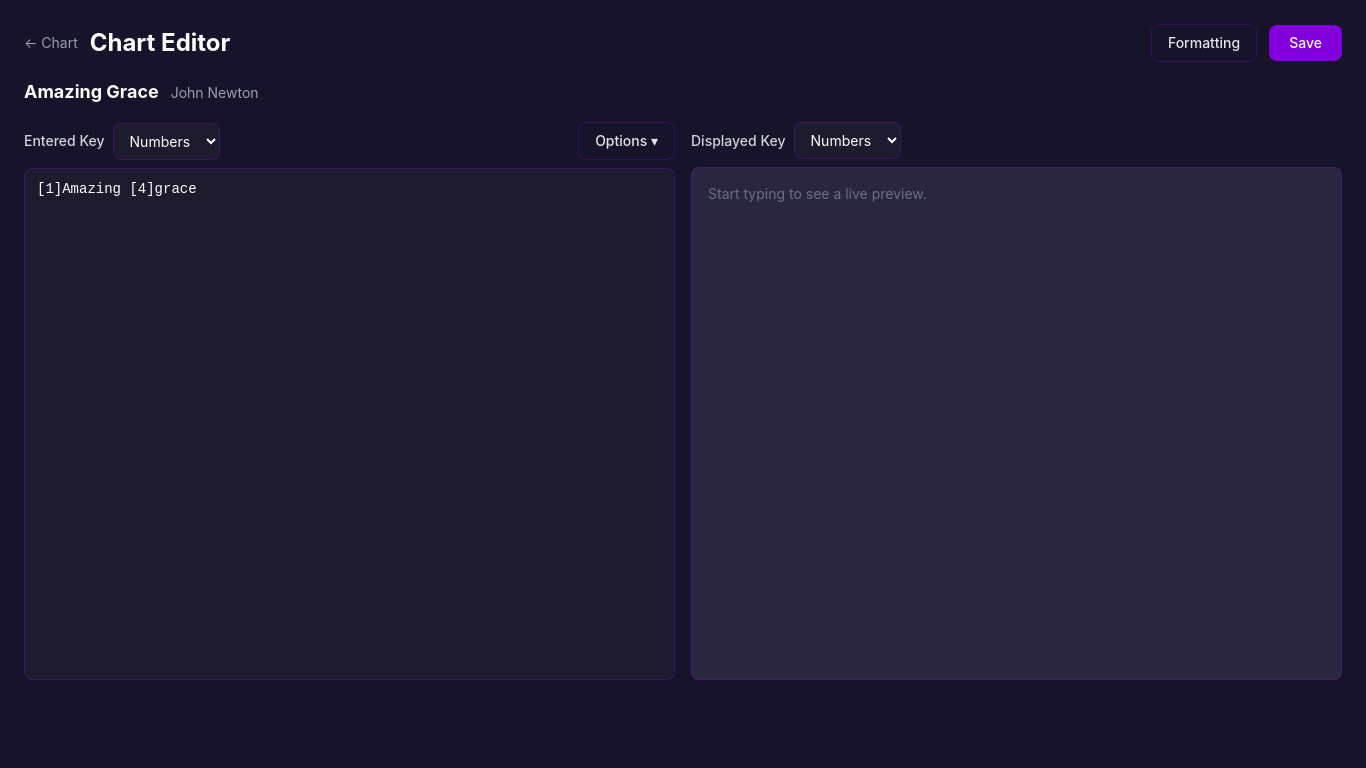
Test case: ChartEditorPage (#9.3) › Options menu inserts modify the textarea body (R11.4, R11.5) › Column Break inserts COLUMN_BREAK into the textarea
Expected: the dropdown labelled "Entered Key" is enabled, [113, 122, 220, 160]
Expected: the text box showing "[1]Amazing [4]grace" is shown, [24, 168, 675, 680]
Click the button "Options ▾".
click(627, 141)  # box [578, 122, 675, 160]
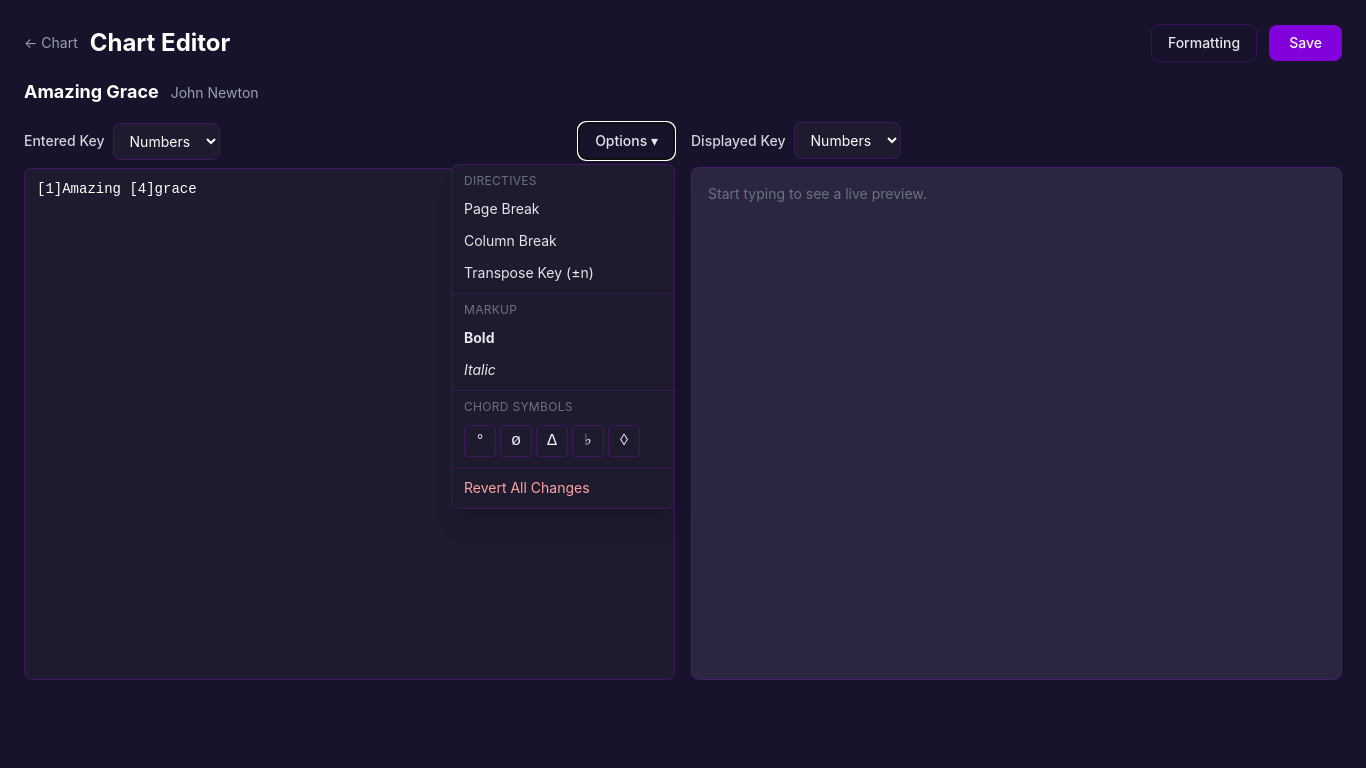
Click the menu item "Column Break".
click(563, 241)  # box [452, 225, 674, 257]
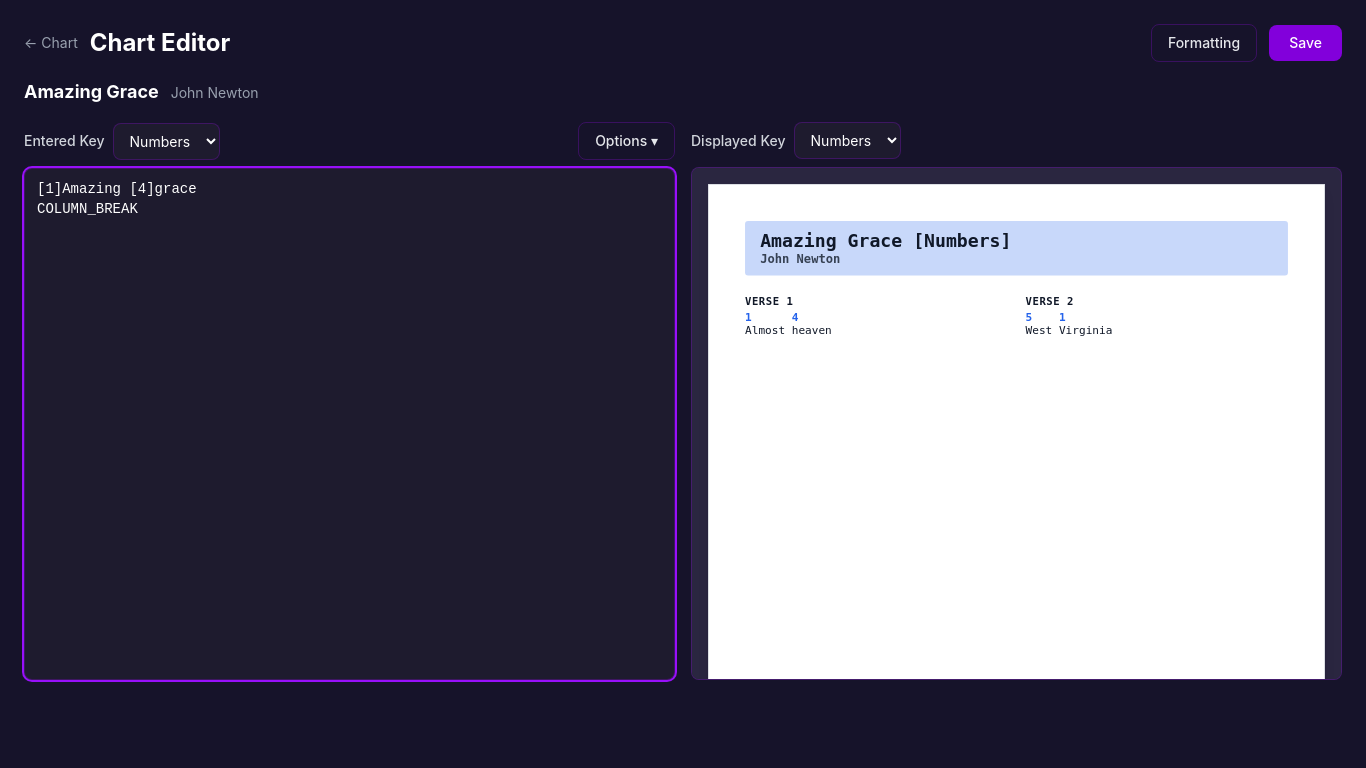
Expected: the text box showing "COLUMN_BREAK" is shown, [24, 168, 675, 680]
